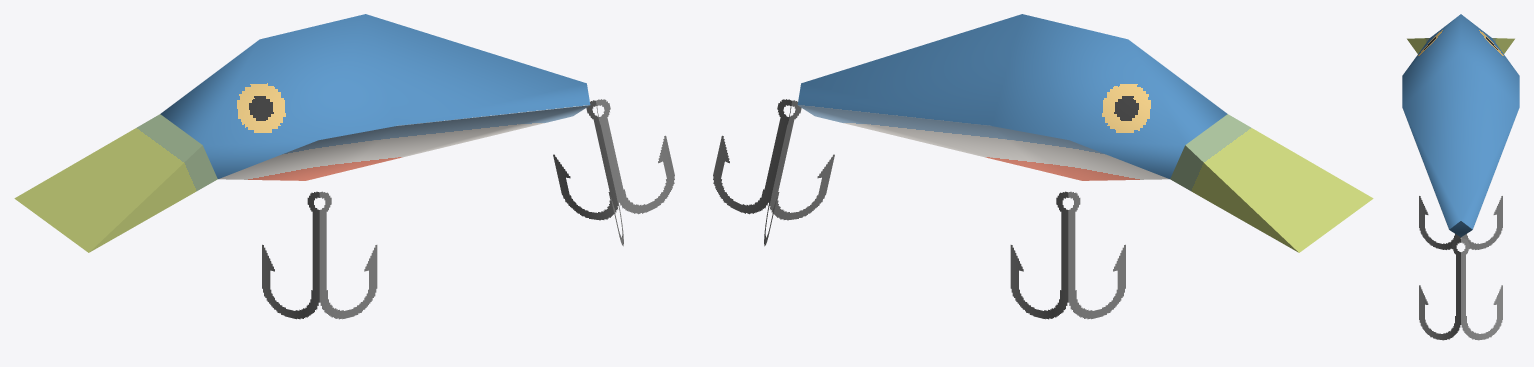
File: 00a5_Fishing_Lure.glb
3 renders of one model, left to right at view 1: azimuth 30°, elevation 25°; view 2: azimuth 150°, elevation 25°; view 3: azimuth 270°, elevation 25°, orthographic. The views are drawn at different scales.
Parts seen in each view (by area): view 1: part_0; view 2: part_0; view 3: part_0.
Part boxes in pixels (x1,y1,x2,y2): part_0: (14,14,674,319); part_0: (713,14,1373,319); part_0: (1402,14,1519,340).
Size of the model in its own units: 0.0682 by 0.0311 by 0.0151.
Materials: 1 (1 with a texture image).
